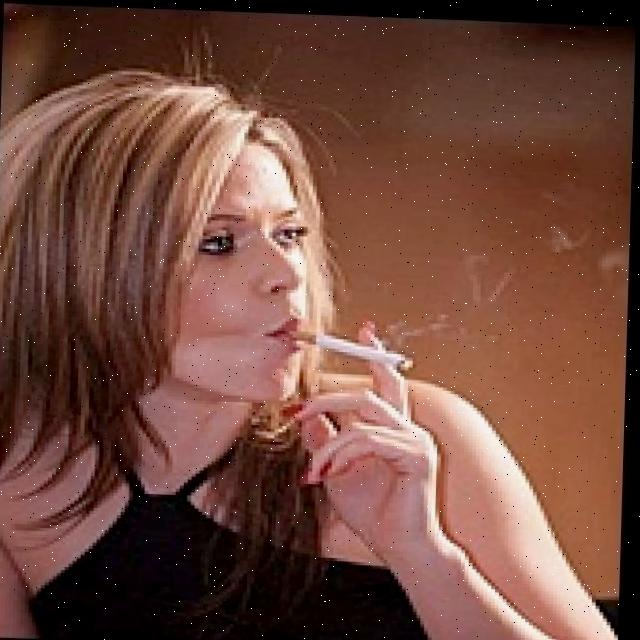cigarette: (291, 329, 415, 370)
